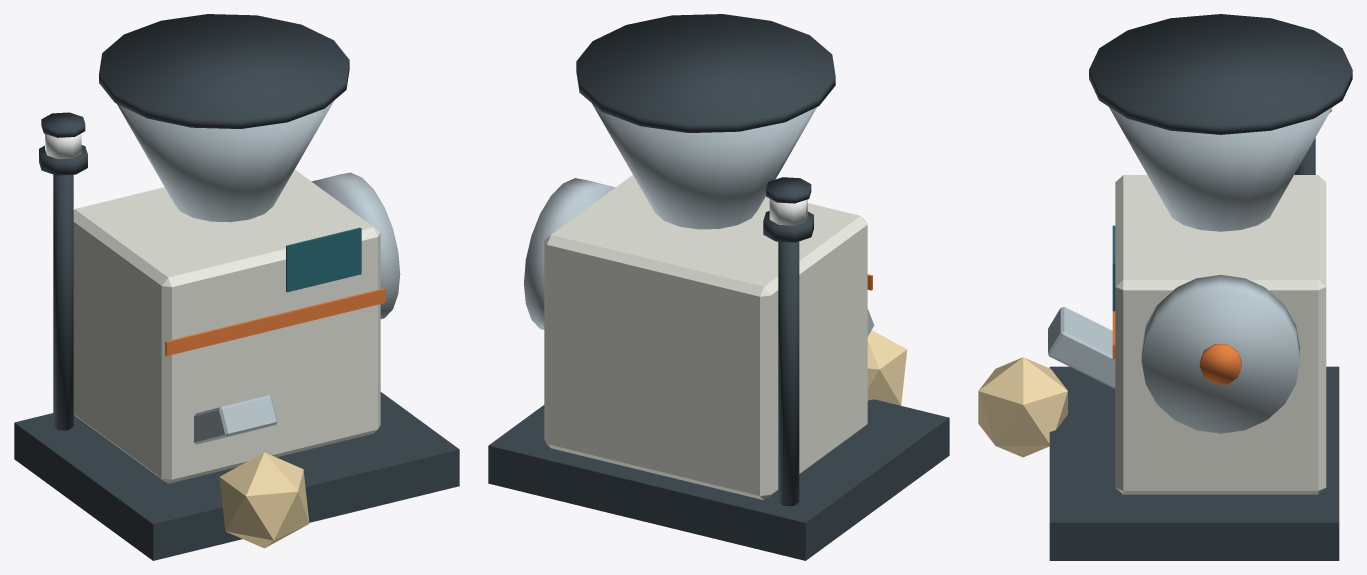
File: mill.glb
3 renders of one model, left to right at view 1: azimuth 30°, elevation 25°; view 2: azimuth 150°, elevation 25°; view 3: azimuth 270°, elevation 25°, orthographic. The views are drawn at different scales.
Parts seen in each view (by area): view 1: Mill, Lamp.004; view 2: Mill, Lamp.004; view 3: Mill.
Part boxes in pixels (x1,y1,x2,y2): Mill: (14,14,459,560); Lamp.004: (39,112,87,430); Mill: (488,14,949,560); Lamp.004: (763,177,813,505); Mill: (978,14,1352,560).
Bounding box in the file's own units: 1.4 × 1.74 × 1.42.
